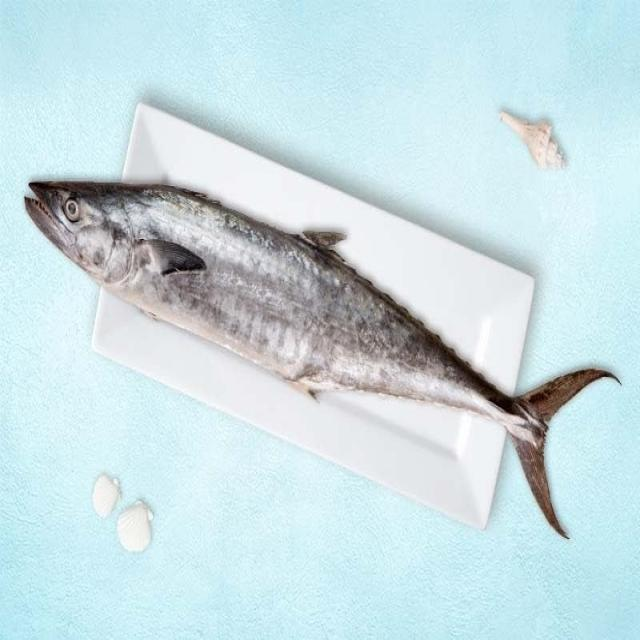seer: (21, 182, 623, 537)
